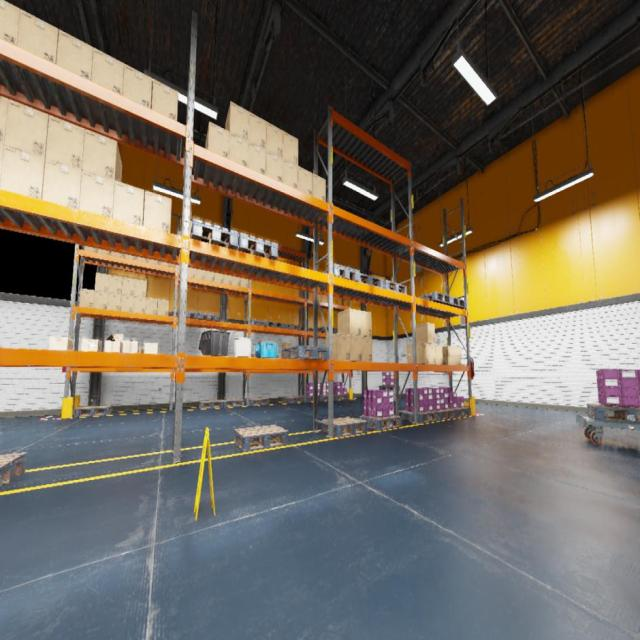box: (4, 99, 48, 158), (0, 146, 45, 200), (17, 9, 59, 64), (82, 128, 122, 182), (46, 115, 85, 170), (42, 159, 82, 209), (56, 30, 94, 80), (80, 170, 115, 217), (91, 48, 124, 94), (113, 180, 145, 226), (122, 64, 152, 108), (144, 190, 172, 232), (152, 79, 178, 121), (226, 102, 250, 140), (0, 0, 20, 45), (205, 122, 229, 159), (229, 132, 248, 167), (326, 333, 350, 360), (249, 112, 266, 149), (338, 309, 361, 336), (266, 122, 283, 158), (248, 142, 266, 175), (266, 150, 283, 182), (283, 131, 298, 165), (282, 158, 298, 189), (406, 342, 428, 363), (415, 322, 435, 344), (298, 166, 312, 196), (312, 173, 326, 201), (0, 96, 8, 144), (442, 346, 462, 365), (105, 334, 123, 352), (49, 338, 74, 350), (350, 335, 361, 361), (80, 288, 94, 308), (108, 275, 122, 294), (95, 273, 109, 292), (362, 310, 372, 336), (362, 336, 372, 362), (134, 279, 148, 297), (94, 291, 108, 309), (108, 292, 121, 311), (122, 277, 135, 296), (81, 339, 101, 351), (121, 294, 134, 312), (133, 296, 146, 313), (122, 340, 140, 352), (146, 297, 158, 314), (157, 299, 169, 315), (428, 343, 436, 364), (144, 342, 158, 353), (436, 345, 443, 364), (282, 342, 292, 355), (0, 143, 3, 183), (195, 268, 205, 279), (84, 245, 98, 252), (112, 251, 125, 258), (214, 273, 223, 283), (205, 270, 214, 280), (98, 249, 112, 255), (232, 276, 240, 286), (224, 274, 232, 284), (124, 254, 137, 260), (160, 261, 172, 267), (149, 259, 161, 265), (240, 278, 248, 287), (188, 268, 195, 278), (138, 257, 149, 262), (259, 341, 269, 345), (139, 348, 144, 352), (276, 355, 282, 358), (250, 354, 256, 357)
pallets: (190, 218, 238, 250), (234, 425, 289, 451), (237, 233, 278, 260), (587, 404, 640, 423), (0, 452, 27, 489), (321, 417, 368, 437), (282, 345, 329, 360), (359, 416, 402, 430), (324, 265, 359, 282), (401, 411, 440, 424), (74, 404, 113, 417), (351, 273, 383, 288), (417, 292, 451, 305), (424, 409, 456, 420), (383, 281, 407, 294), (445, 296, 466, 309), (449, 407, 471, 418), (198, 312, 219, 322), (220, 399, 244, 407), (177, 310, 198, 319), (199, 401, 223, 408), (282, 396, 304, 403), (248, 398, 270, 405), (247, 319, 267, 326), (284, 324, 302, 331), (380, 386, 400, 392), (318, 327, 336, 333), (304, 396, 322, 402), (267, 322, 284, 328), (320, 396, 336, 401), (333, 395, 349, 400), (333, 328, 338, 334)
